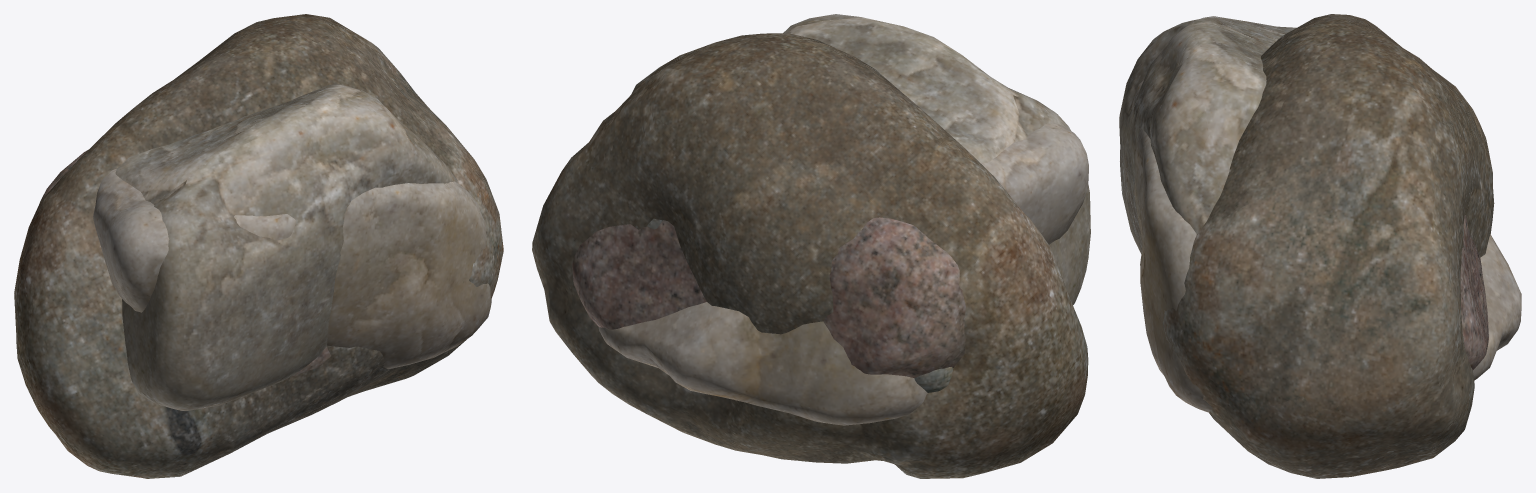
File: ukhkbediw_tier_2.gltf
3 renders of one model, left to right at view 1: azimuth 30°, elevation 25°; view 2: azimuth 150°, elevation 25°; view 3: azimuth 270°, elevation 25°, orthographic. The views are drawn at different scales.
Visible parts, largest first — view 1: ukhkbediw_LOD0_TIER2_005, ukhkbediw_LOD0_TIER2_002, ukhkbediw_LOD0_TIER2_003, ukhkbediw_LOD0_TIER2_004; view 2: ukhkbediw_LOD0_TIER2_005, ukhkbediw_LOD0_TIER2_003, ukhkbediw_LOD0_TIER2_004, ukhkbediw_LOD0_TIER2_002, ukhkbediw_LOD0_TIER2_006; view 3: ukhkbediw_LOD0_TIER2_005, ukhkbediw_LOD0_TIER2_002, ukhkbediw_LOD0_TIER2_003, ukhkbediw_LOD0_TIER2_004.
Part boxes in pixels (x1,y1,x2,y2): ukhkbediw_LOD0_TIER2_005: [14, 14, 503, 478]; ukhkbediw_LOD0_TIER2_002: [115, 84, 457, 410]; ukhkbediw_LOD0_TIER2_003: [93, 169, 491, 369]; ukhkbediw_LOD0_TIER2_004: [40, 150, 330, 376]; ukhkbediw_LOD0_TIER2_005: [532, 33, 1088, 478]; ukhkbediw_LOD0_TIER2_003: [598, 123, 1088, 425]; ukhkbediw_LOD0_TIER2_004: [572, 217, 965, 377]; ukhkbediw_LOD0_TIER2_002: [783, 14, 1090, 304]; ukhkbediw_LOD0_TIER2_006: [647, 218, 953, 392]; ukhkbediw_LOD0_TIER2_005: [1162, 14, 1494, 478]; ukhkbediw_LOD0_TIER2_002: [1119, 16, 1296, 253]; ukhkbediw_LOD0_TIER2_003: [1132, 80, 1521, 412]; ukhkbediw_LOD0_TIER2_004: [1460, 215, 1488, 369].
Size of the model in its own units: 0.0851 by 0.0653 by 0.0585.
1 material, 1 textured.
